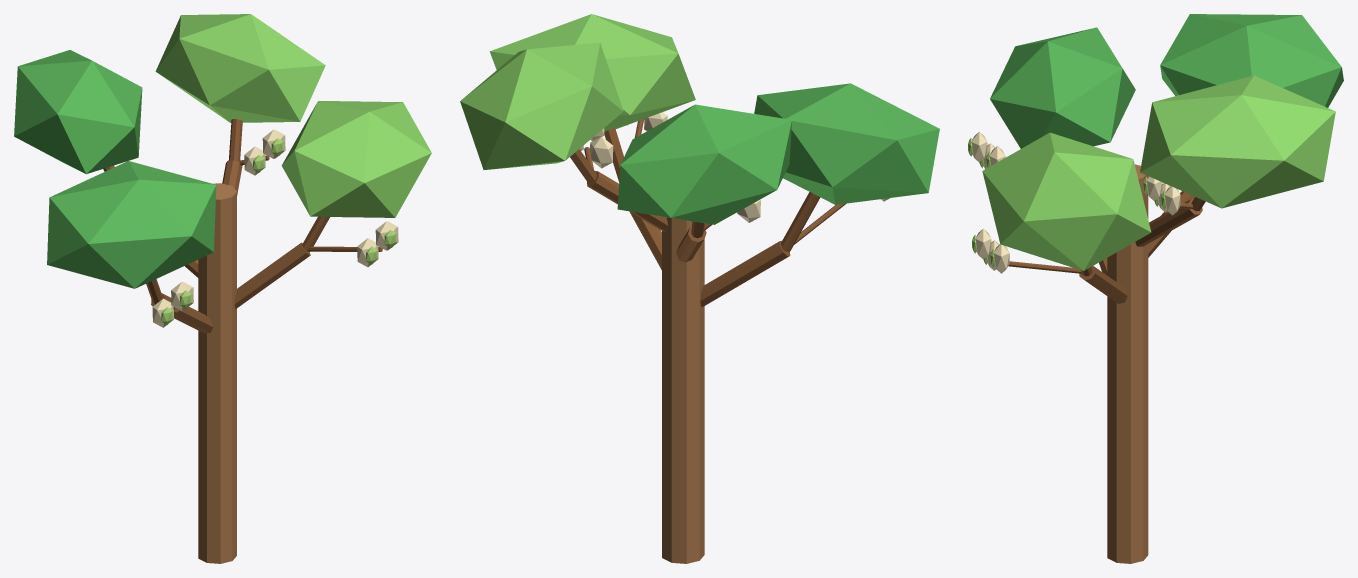
Rendered from Pistachio.glb.
3 views of the same model, side by side, from view 1: azimuth 30°, elevation 25°; view 2: azimuth 150°, elevation 25°; view 3: azimuth 270°, elevation 25° (orthographic). The views are drawn at different scales.
Parts seen in each view (by area): view 1: FTF_Plant_Pistachio_Tree_Mature_Mesh; view 2: FTF_Plant_Pistachio_Tree_Mature_Mesh; view 3: FTF_Plant_Pistachio_Tree_Mature_Mesh.
Boxes of the visible parts, x1=… form: FTF_Plant_Pistachio_Tree_Mature_Mesh: x1=14, y1=14, x2=431, y2=563; FTF_Plant_Pistachio_Tree_Mature_Mesh: x1=460, y1=14, x2=939, y2=563; FTF_Plant_Pistachio_Tree_Mature_Mesh: x1=968, y1=14, x2=1343, y2=563.
Size of the model in its own units: 2.29 by 2.77 by 1.87.
